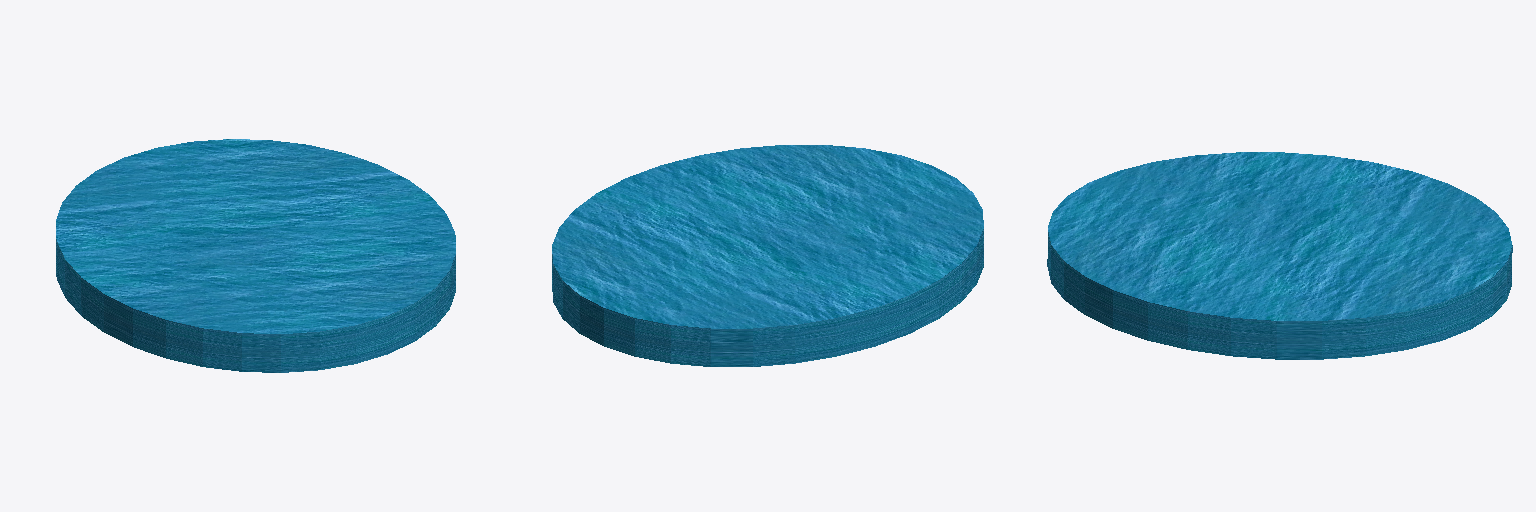
3 views of the same model, side by side, from view 1: azimuth 30°, elevation 25°; view 2: azimuth 150°, elevation 25°; view 3: azimuth 270°, elevation 25° (orthographic).
Parts seen in each view (by area): view 1: Cylinder; view 2: Cylinder; view 3: Cylinder.
Boxes of the visible parts, box(x1,y1,x2,y2) form: Cylinder: box(56, 139, 455, 372); Cylinder: box(552, 145, 983, 366); Cylinder: box(1047, 152, 1512, 359).
Bounding box in the file's own units: 20.78 × 2.27 × 24.21.
1 materials, 1 textured.